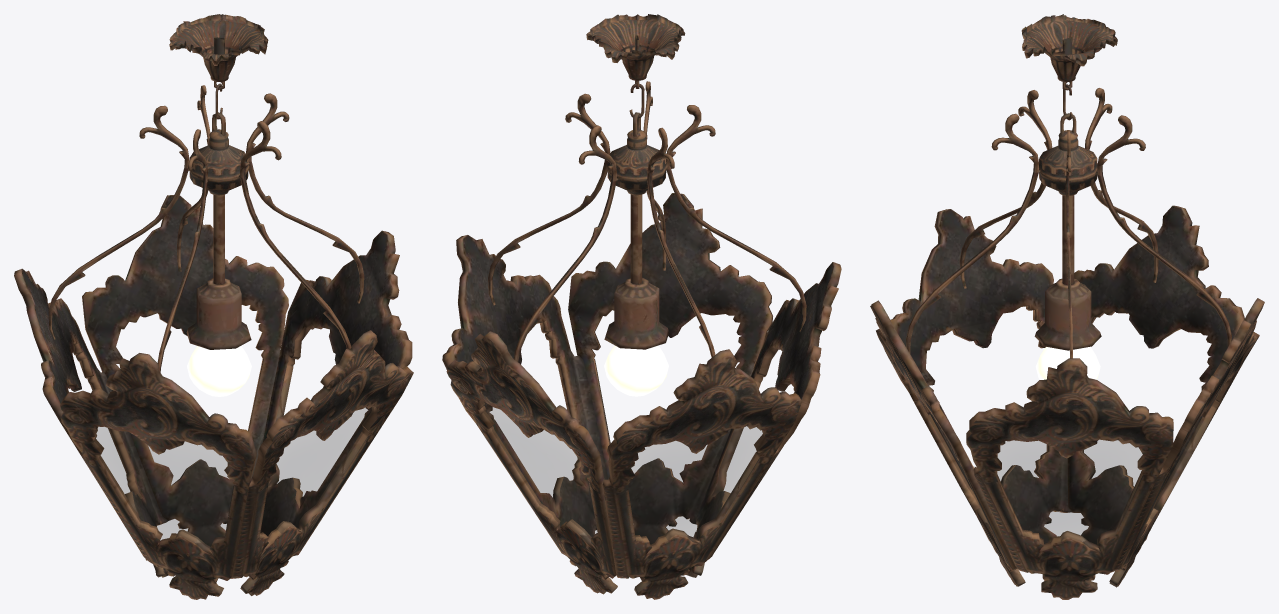
File: lantern_chandelier_01.glb
The picture shows the model from 3 angles, left to right: view 1: azimuth 30°, elevation 25°; view 2: azimuth 150°, elevation 25°; view 3: azimuth 270°, elevation 25°; orthographic projection.
Visible parts, largest first — view 1: lantern_chandelier_01; view 2: lantern_chandelier_01; view 3: lantern_chandelier_01.
Part boxes in pixels (x1,y1,x2,y2): lantern_chandelier_01: (14,14,413,599); lantern_chandelier_01: (442,14,841,599); lantern_chandelier_01: (870,14,1264,599).
Size of the model in its own units: 0.5792 by 0.8776 by 0.5746.
3 materials, 2 textured.
